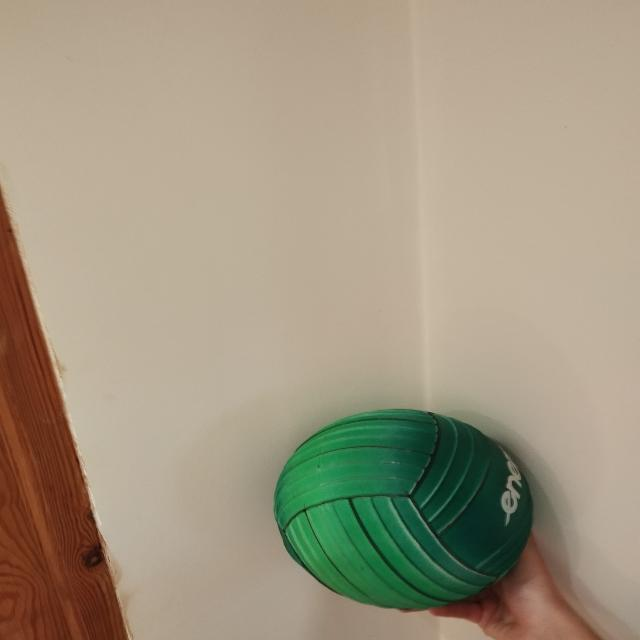zielona: (274, 408, 534, 608)
